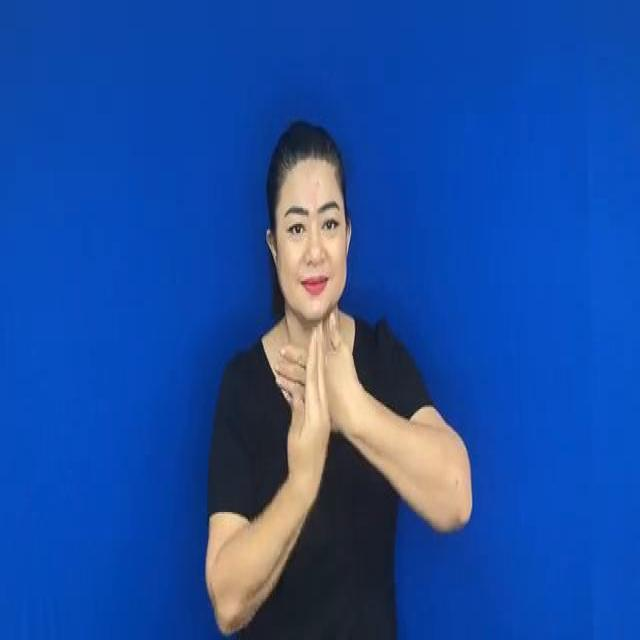bread: (271, 304, 362, 498)
